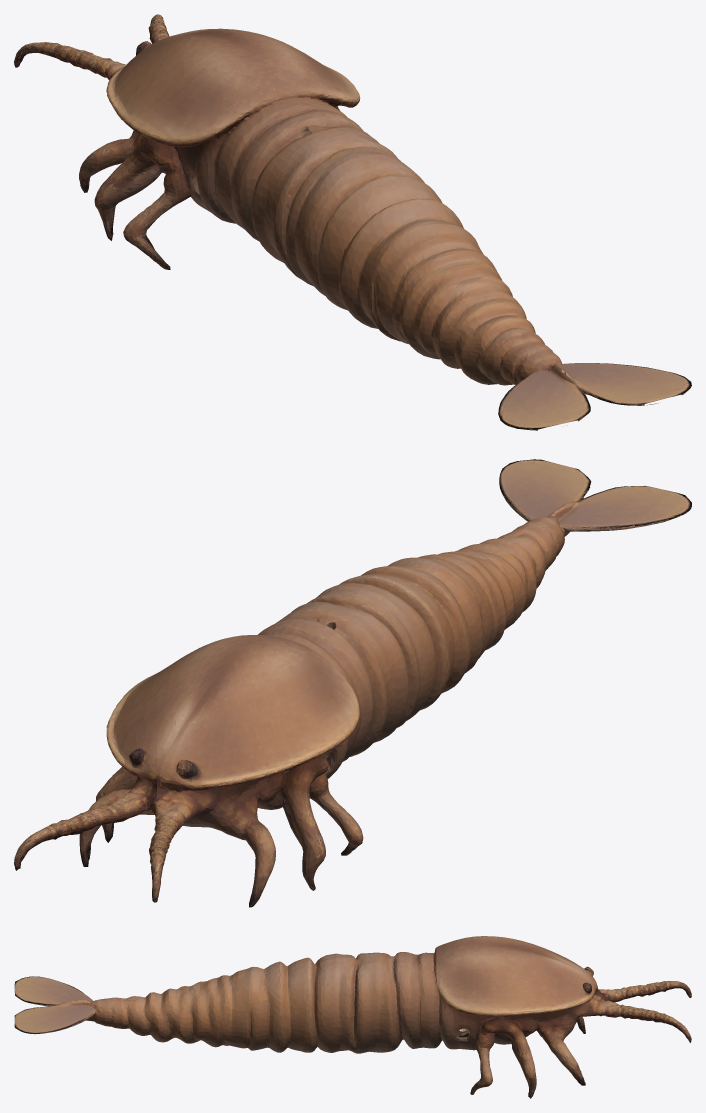
3 renders of one model, top to bottom at view 1: azimuth 30°, elevation 25°; view 2: azimuth 150°, elevation 25°; view 3: azimuth 270°, elevation 25°, orthographic. The views are drawn at different scales.
Parts seen in each view (by area): view 1: world; view 2: world; view 3: world.
Boxes of the visible parts, x1,y1,x2,y2 form: world: (14, 14, 691, 430); world: (14, 459, 691, 907); world: (14, 936, 691, 1098).
Size of the model in its own units: 0.2606 by 0.2027 by 1.
Materials: 1 (1 with a texture image).
